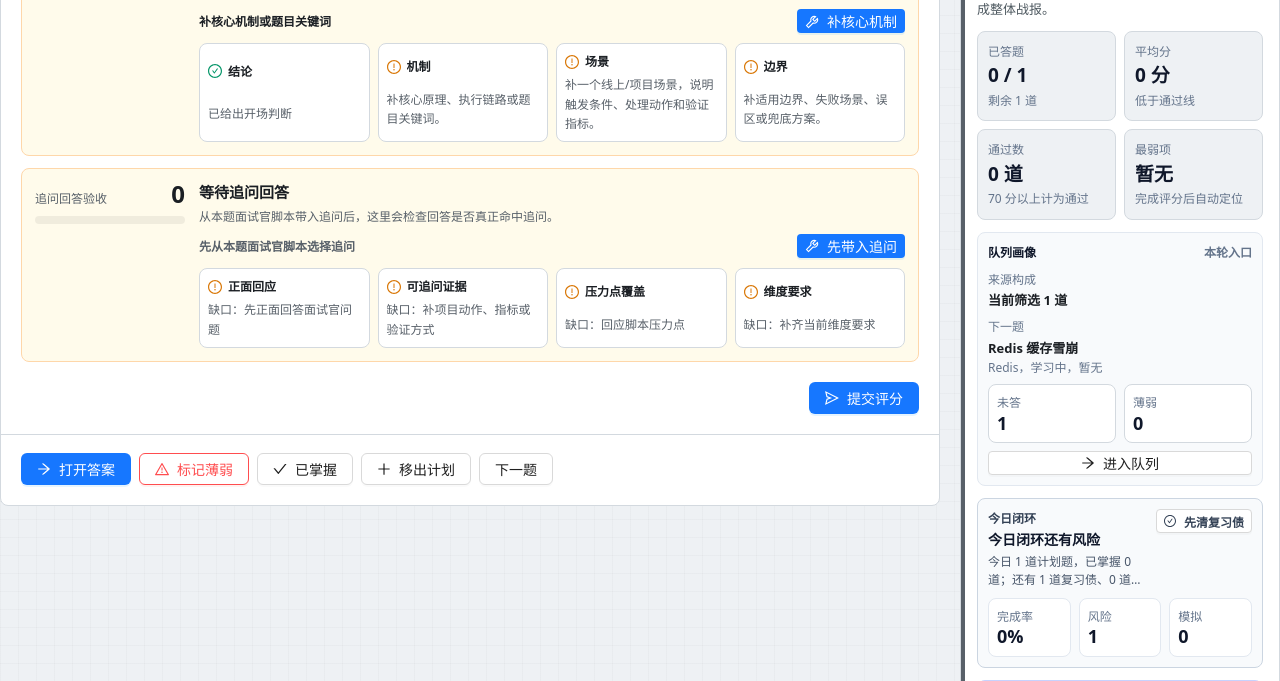
Test: Practice page answer draft lifecycle › clears the local answer draft after a successful score submission
The width and height of the screenshot is (1280, 681).
(page scrolled)
Click the button "提交评分": (864, 398) [809,382,919,414]
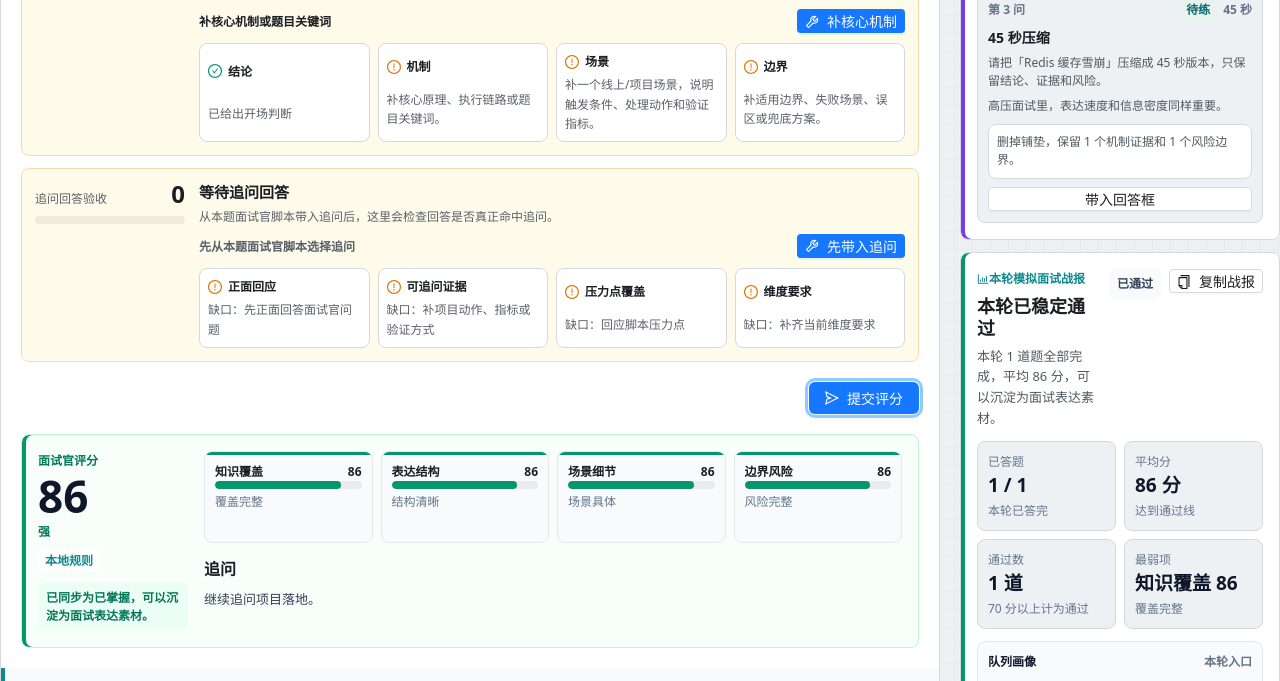
Expected: the text "面试官评分" is shown, [38,452,98,469]
